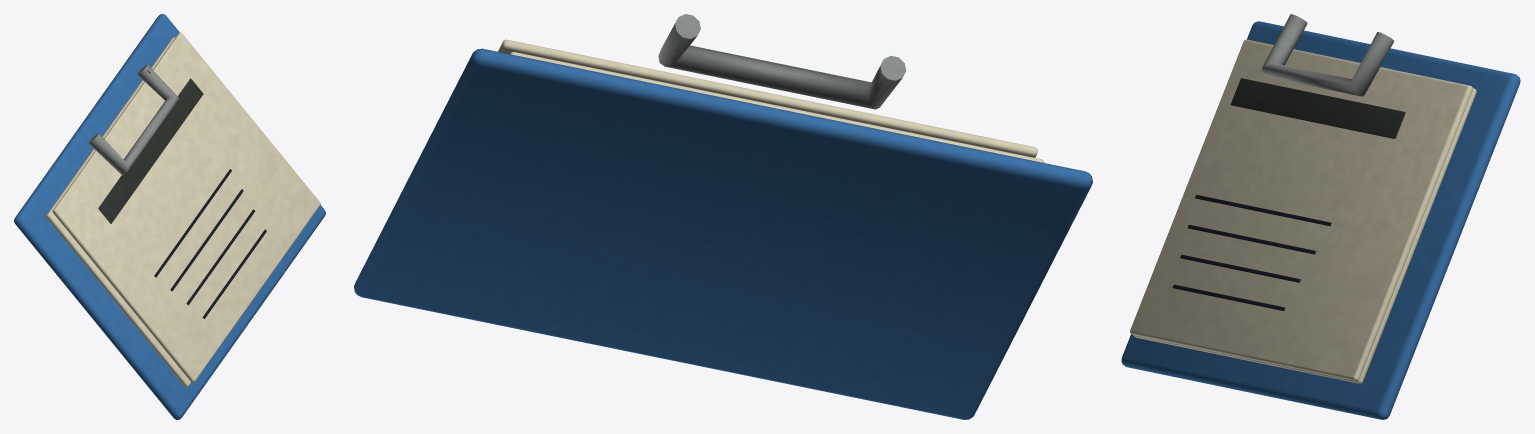
The picture shows the model from 3 angles, left to right: view 1: azimuth 30°, elevation 25°; view 2: azimuth 150°, elevation 25°; view 3: azimuth 270°, elevation 25°; orthographic projection. The views are drawn at different scales.
Parts seen in each view (by area): view 1: Folded document backing; view 2: Folded document backing; view 3: Folded document backing.
Part boxes in pixels (<box>): Folded document backing: <box>14,14,325,419</box>; Folded document backing: <box>354,14,1092,419</box>; Folded document backing: <box>1121,14,1520,419</box>.
Bounding box in the file's own units: 1.35 × 0.9884 × 0.9515.
1 material, 1 textured.
